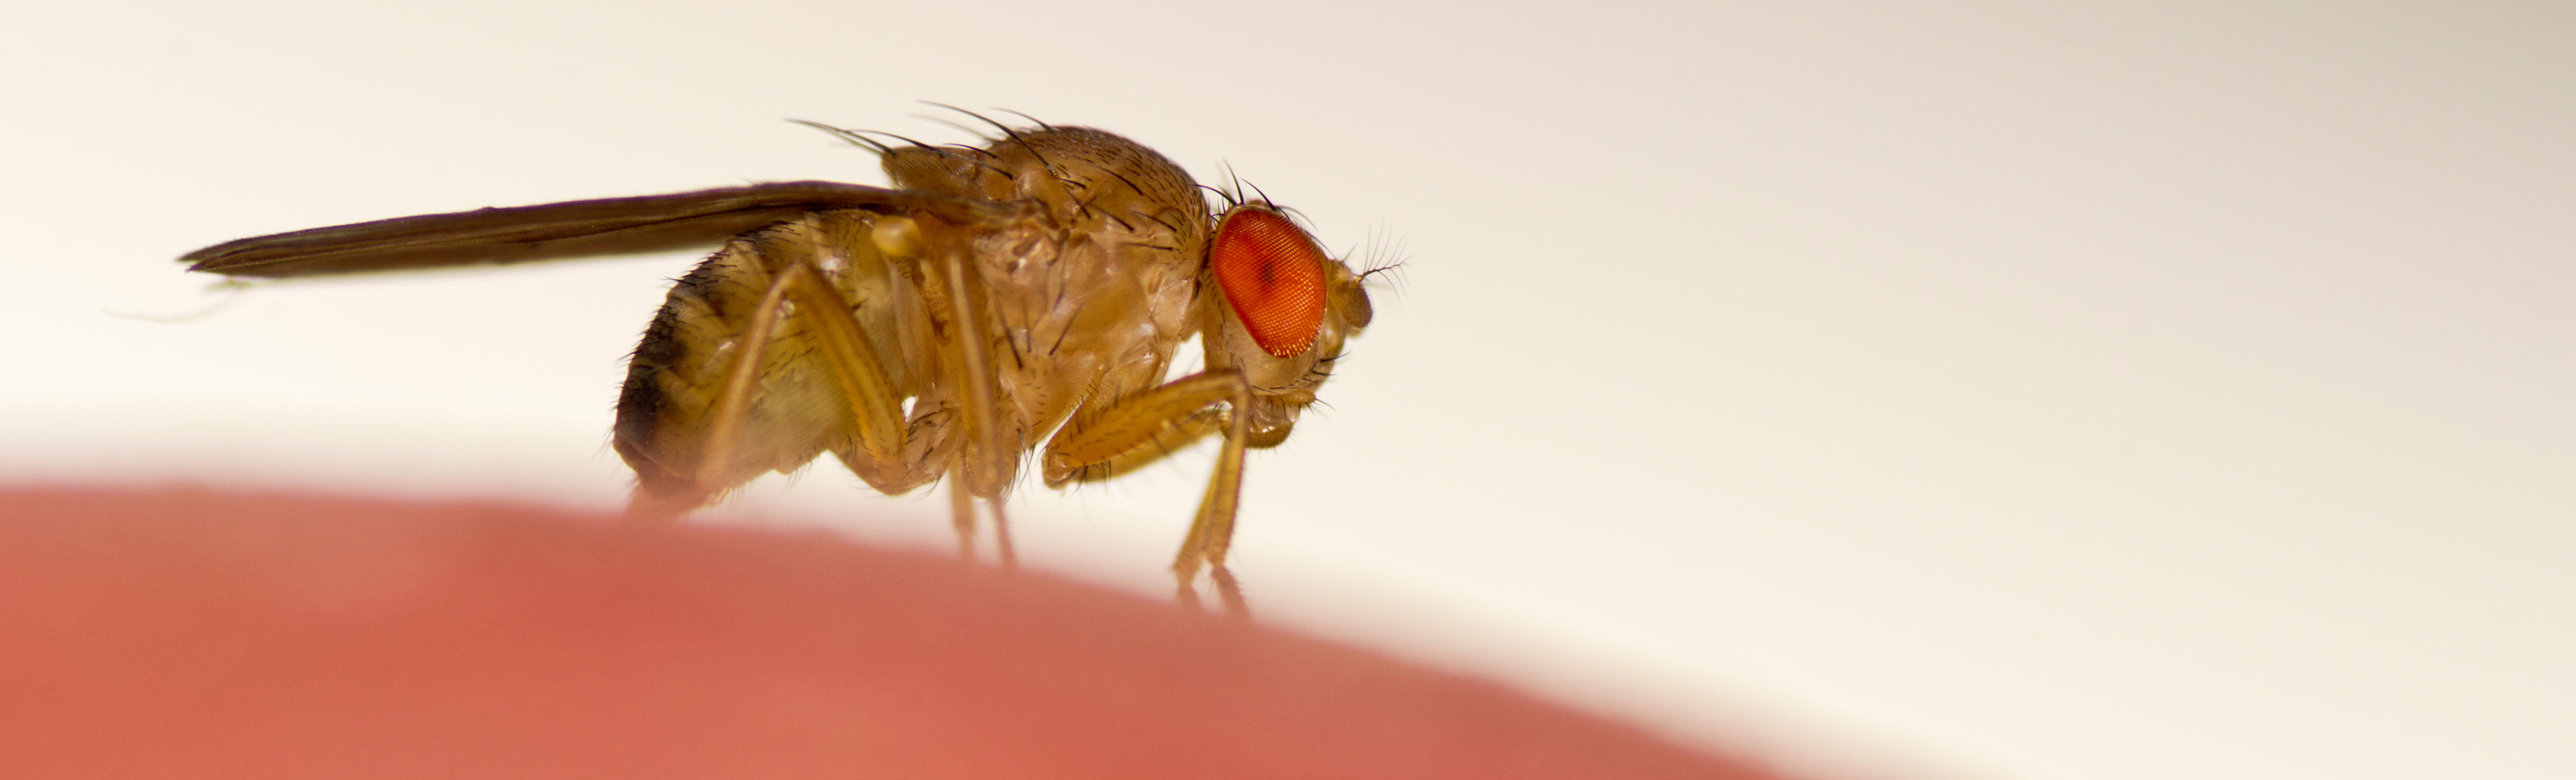Fruit fly: (199, 91, 1496, 577)
